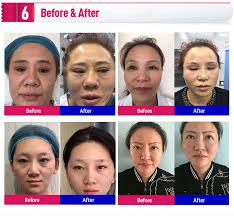n.blunt: (196, 67, 212, 83)
